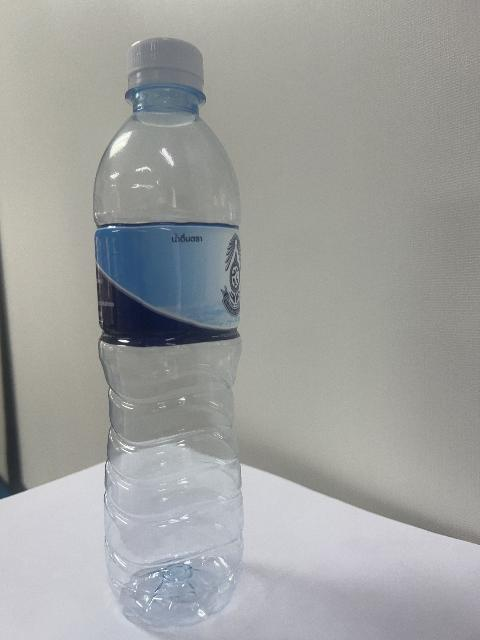bottle: (94, 39, 242, 627)
